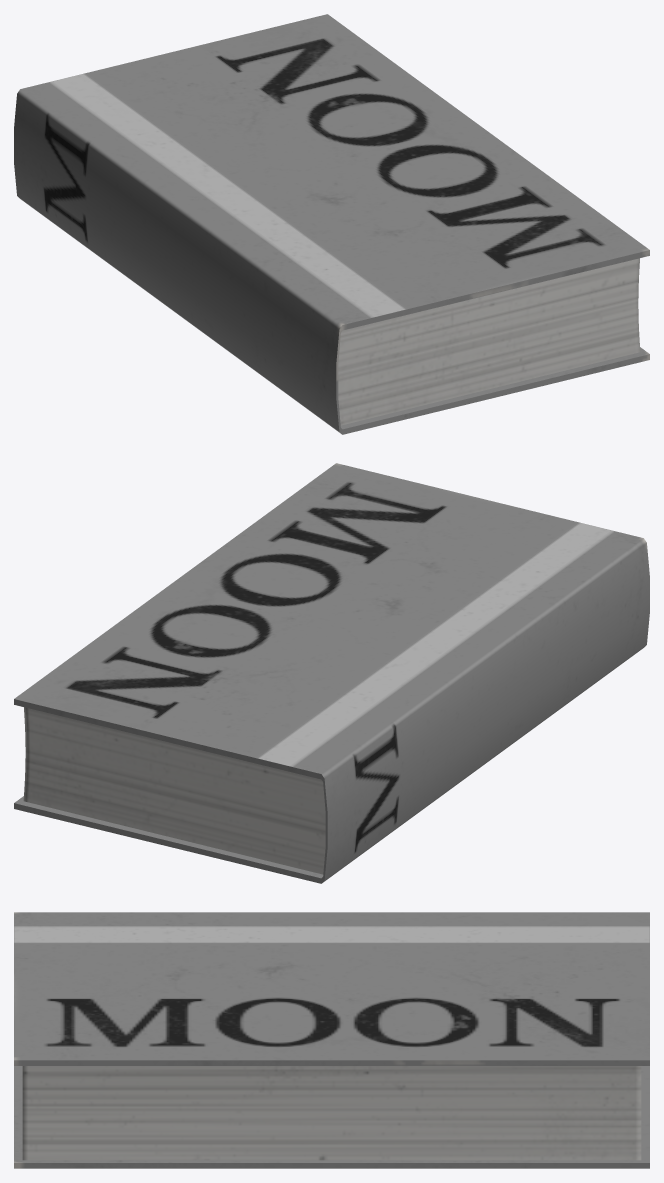
File: SM_BookB.fbx
3 views of the same model, one above another, from view 1: azimuth 30°, elevation 25°; view 2: azimuth 150°, elevation 25°; view 3: azimuth 270°, elevation 25° (orthographic).
Parts seen in each view (by area): view 1: SM_BookB_LOD0; view 2: SM_BookB_LOD0; view 3: SM_BookB_LOD0.
Boxes of the visible parts, <box> form: SM_BookB_LOD0: <box>14,14,649,434</box>; SM_BookB_LOD0: <box>14,463,649,883</box>; SM_BookB_LOD0: <box>14,912,649,1168</box>.
Bounding box in the file's own units: 12.4 × 22.07 × 4.15.
Materials: 1 (1 with a texture image).
